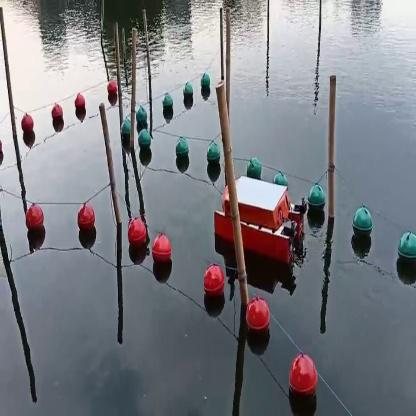green_buoy: (399, 233, 415, 270), (354, 209, 372, 240), (204, 137, 218, 171), (176, 137, 190, 162), (312, 186, 322, 221), (120, 119, 134, 142), (249, 155, 263, 176), (181, 82, 193, 106), (136, 98, 148, 120), (140, 130, 150, 156), (164, 93, 174, 114), (276, 170, 289, 186), (201, 75, 209, 93)
red_buoy: (288, 352, 316, 403), (247, 296, 272, 340), (127, 212, 148, 252), (204, 264, 226, 300), (76, 200, 96, 231), (152, 236, 172, 266), (25, 200, 40, 236), (20, 112, 38, 136), (48, 101, 62, 130), (75, 89, 86, 112), (107, 76, 117, 98)
